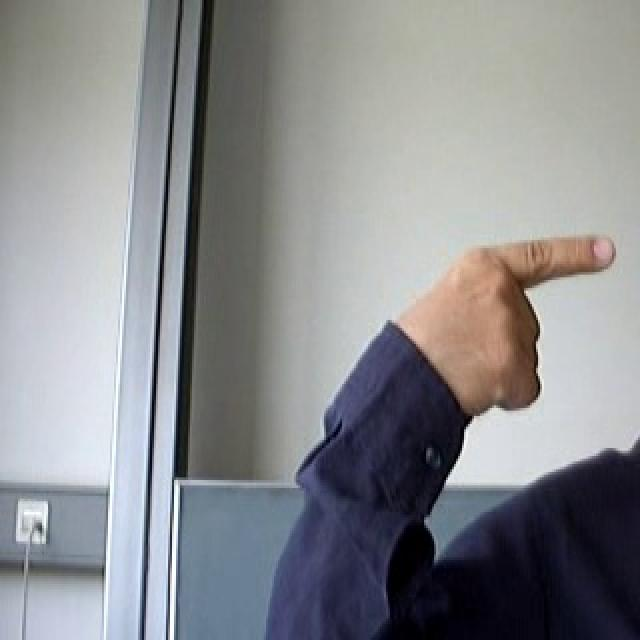G: (387, 228, 625, 415)
